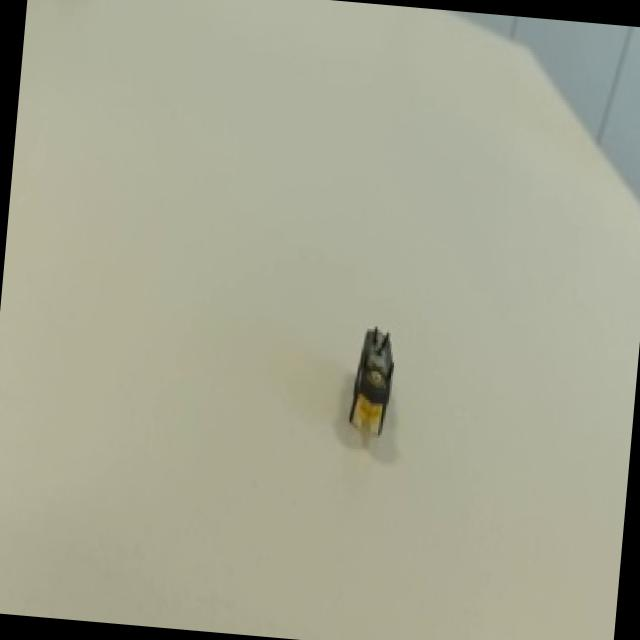6_NanoBug_GrisOscuro: (322, 278, 441, 456)
